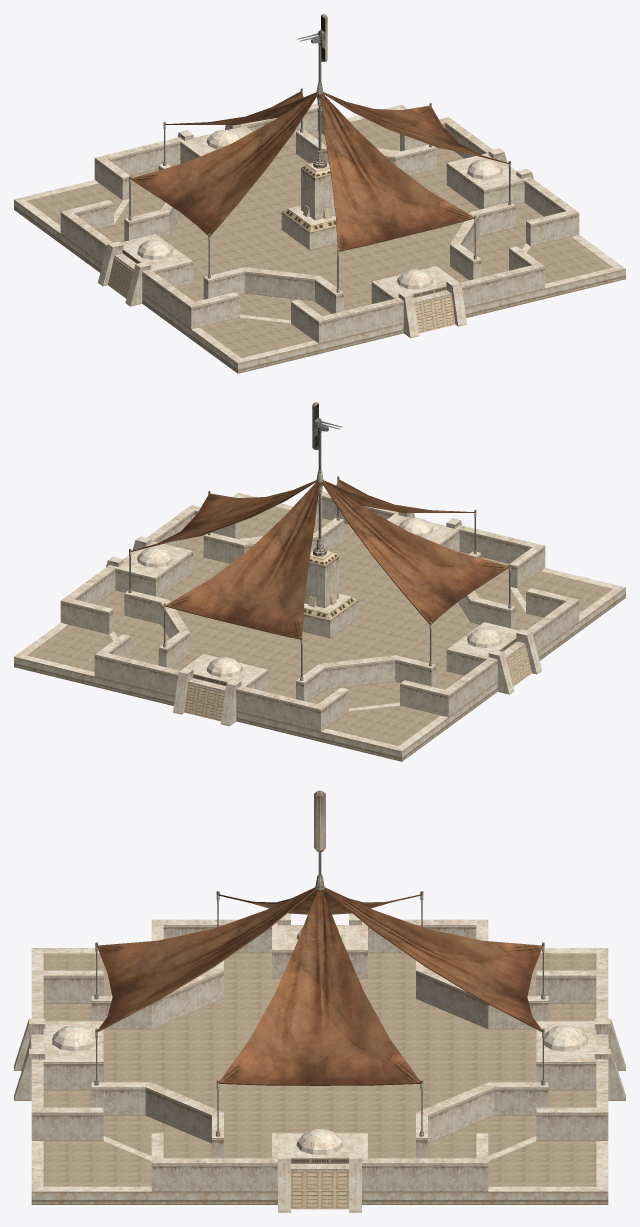
File: mun_tato_bank_s01_l0.fbx
The picture shows the model from 3 angles, top to bottom: view 1: azimuth 30°, elevation 25°; view 2: azimuth 150°, elevation 25°; view 3: azimuth 270°, elevation 25°; orthographic projection. The views are drawn at different scales.
Parts seen in each view (by area): view 1: mesh_node; view 2: mesh_node; view 3: mesh_node.
Boxes of the visible parts, x1,y1,x2,y2 form: mesh_node: (14, 14, 625, 373); mesh_node: (14, 402, 625, 761); mesh_node: (14, 790, 625, 1212).
Bounding box in the file's own units: 63.68 × 33.84 × 63.68.
5 materials, 5 textured.
